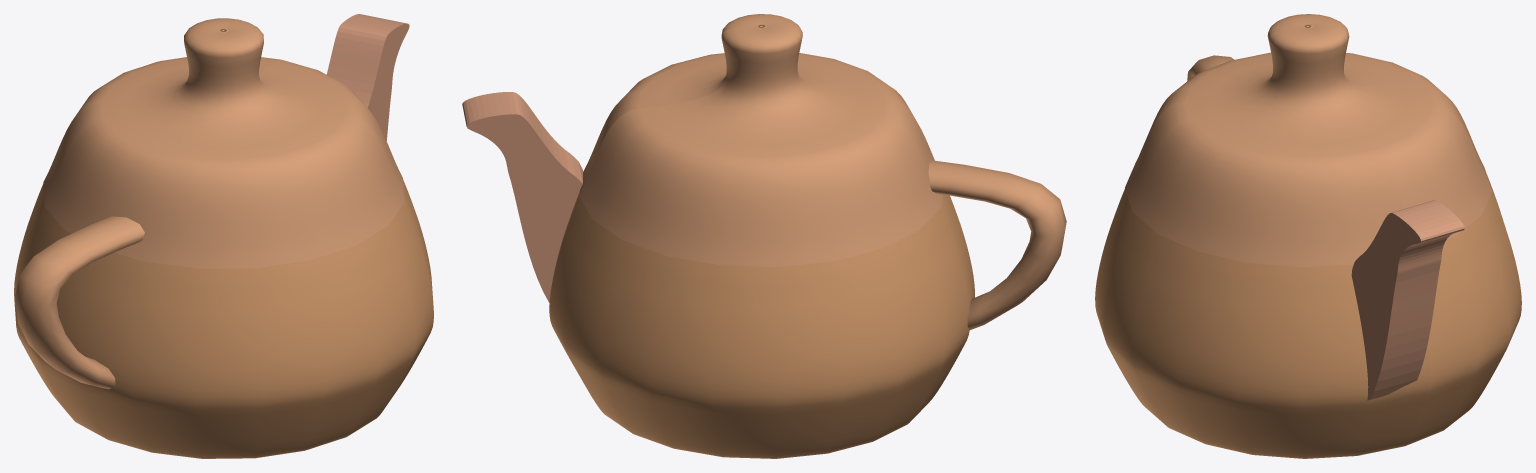
The model's file is teapot.glb.
The picture shows the model from 3 angles, left to right: view 1: azimuth 30°, elevation 25°; view 2: azimuth 150°, elevation 25°; view 3: azimuth 270°, elevation 25°; orthographic projection.
Visible parts, largest first — view 1: BezierCurve, Teapot.001, BezierCurve.002; view 2: BezierCurve, BezierCurve.002, Teapot.001; view 3: BezierCurve, BezierCurve.002, Teapot.001.
Part boxes in pixels (bbox=[...]): BezierCurve: bbox=[14, 18, 433, 458]; Teapot.001: bbox=[15, 216, 144, 389]; BezierCurve.002: bbox=[326, 14, 409, 140]; BezierCurve: bbox=[549, 14, 974, 458]; BezierCurve.002: bbox=[462, 92, 583, 302]; Teapot.001: bbox=[928, 160, 1066, 329]; BezierCurve: bbox=[1095, 14, 1521, 458]; BezierCurve.002: bbox=[1351, 200, 1464, 400]; Teapot.001: bbox=[1187, 55, 1234, 81].
Size of what is drawn, in the model's own units: 5.03 by 3.54 by 3.75.
